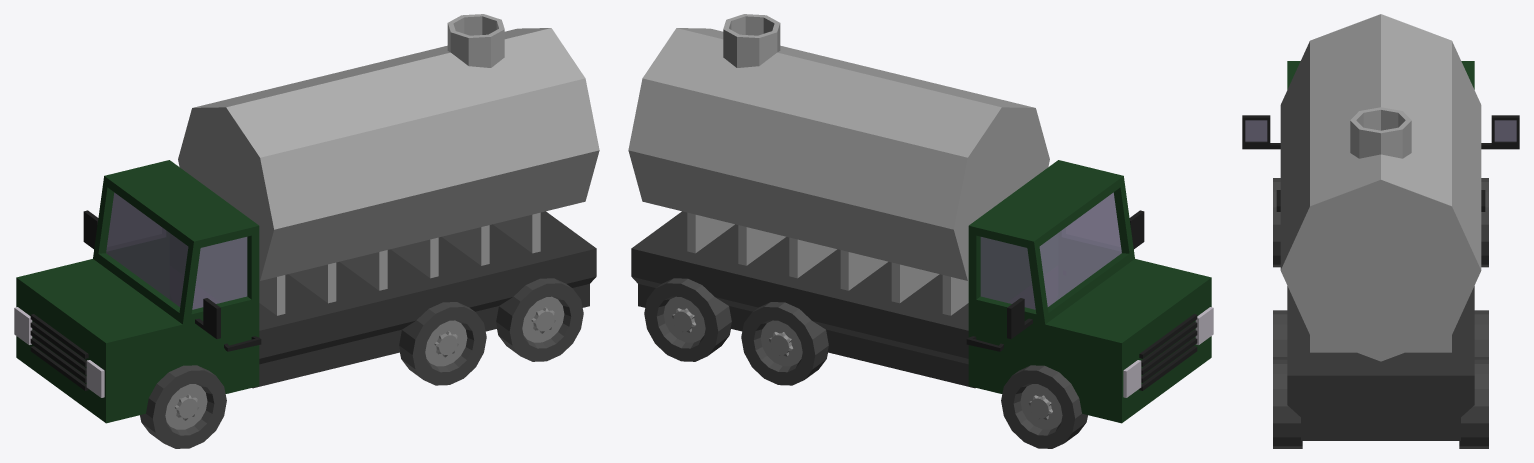
Rendered from Truck3.fbx.
3 renders of one model, left to right at view 1: azimuth 30°, elevation 25°; view 2: azimuth 150°, elevation 25°; view 3: azimuth 270°, elevation 25°, orthographic. The views are drawn at different scales.
Visible parts, largest first — view 1: Truck1, Llanta9, Llanta8, Llanta10; view 2: Truck1, Llanta7, Llanta6, Llanta5; view 3: Truck1, Llanta6, Llanta8, Llanta7, Llanta9, Llanta5, Llanta10.
Boxes of the visible parts, box(x1,y1,x2,y2) form: Truck1: box(14, 14, 599, 423); Llanta9: box(399, 302, 486, 385); Llanta8: box(496, 278, 583, 361); Llanta10: box(140, 365, 226, 448); Truck1: box(628, 14, 1213, 423); Llanta7: box(741, 302, 828, 385); Llanta6: box(644, 278, 731, 361); Llanta5: box(1001, 365, 1087, 448); Truck1: box(1242, 14, 1519, 440); Llanta6: box(1459, 359, 1488, 448); Llanta8: box(1273, 359, 1302, 448); Llanta7: box(1474, 310, 1488, 359); Llanta9: box(1273, 310, 1287, 359); Llanta5: box(1481, 178, 1488, 267); Llanta10: box(1273, 178, 1280, 267).
Size of the model in its own units: 278 by 162 by 130.
